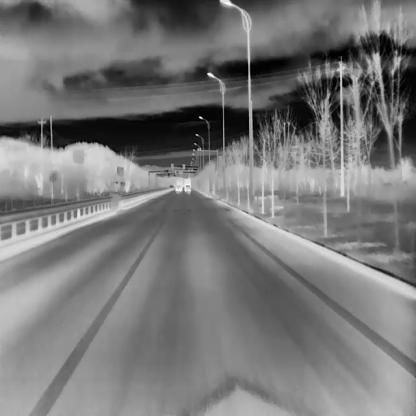car: (175, 184, 181, 191), (184, 184, 190, 191)
truck: (184, 178, 190, 188), (176, 180, 182, 190)
